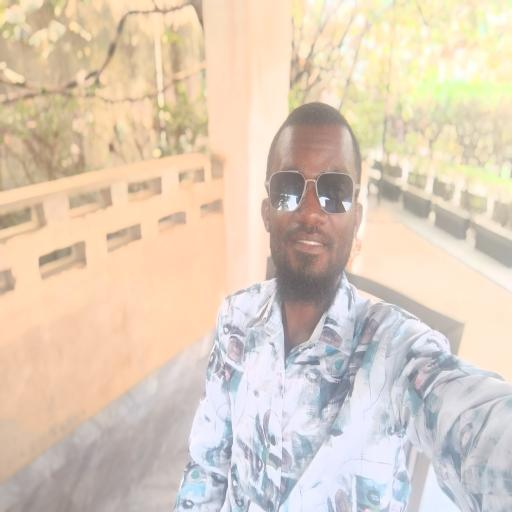MATTHIEU: (264, 100, 366, 317)
